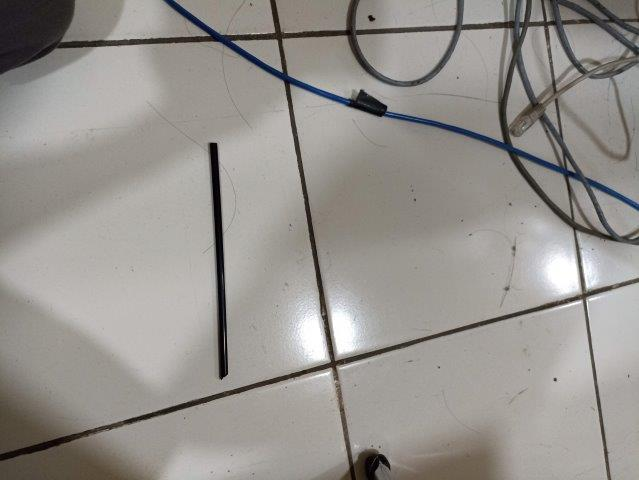sedotan: (209, 143, 229, 380)
